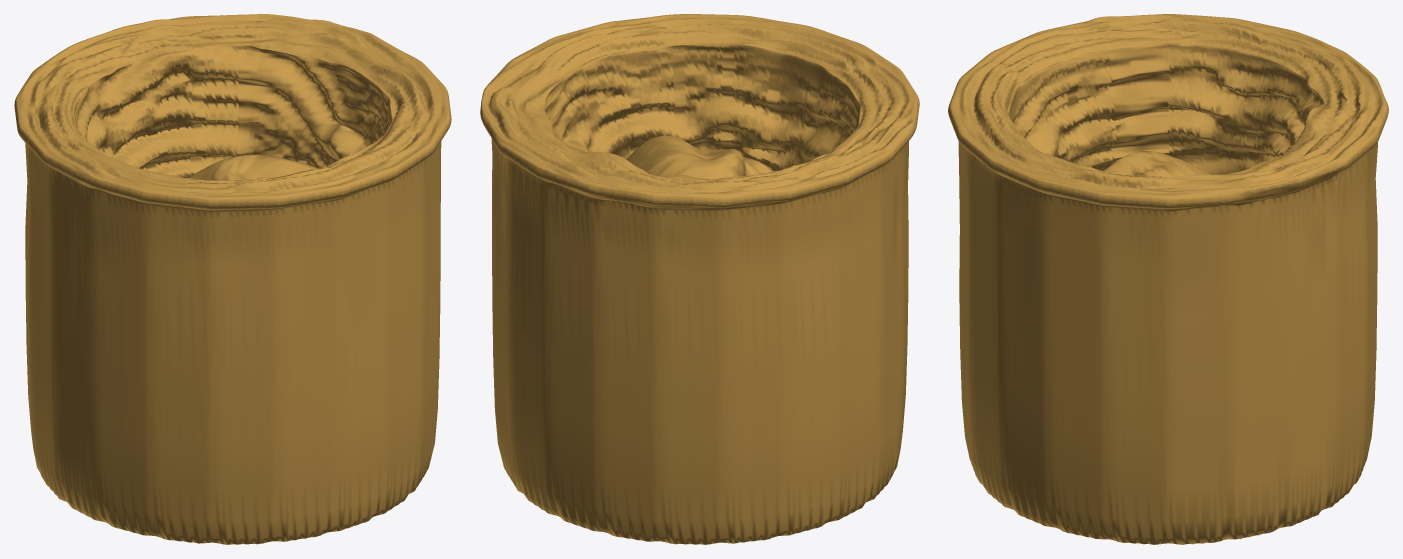
3 renders of one model, left to right at view 1: azimuth 30°, elevation 25°; view 2: azimuth 150°, elevation 25°; view 3: azimuth 270°, elevation 25°, orthographic.
Parts seen in each view (by area): view 1: Ice_Creem_03; view 2: Ice_Creem_03; view 3: Ice_Creem_03.
Boxes of the visible parts, <box> form: Ice_Creem_03: <box>14,14,451,544</box>; Ice_Creem_03: <box>480,14,919,544</box>; Ice_Creem_03: <box>948,14,1388,544</box>.
Size of the model in its own units: 1.22 by 1.13 by 1.22.
